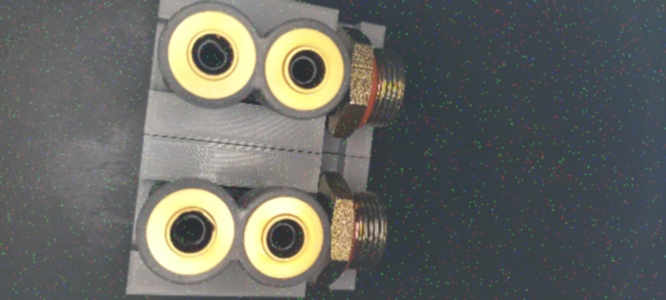off-centered: (169, 213, 216, 251), (193, 36, 233, 75)
